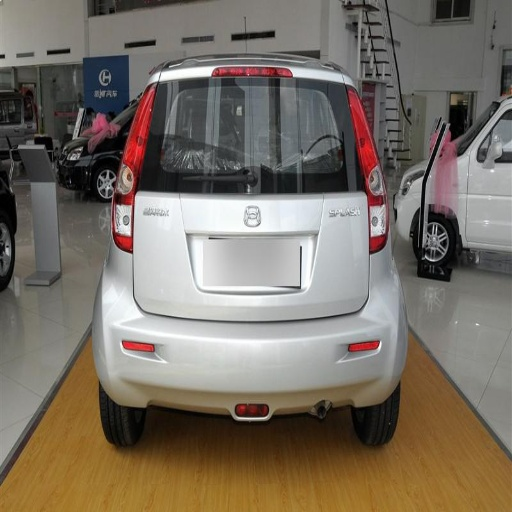back_bumper: (90, 246, 409, 424)
back_left_light: (111, 117, 147, 252)
tailgate: (140, 167, 362, 320)
trunk: (117, 189, 189, 317)
